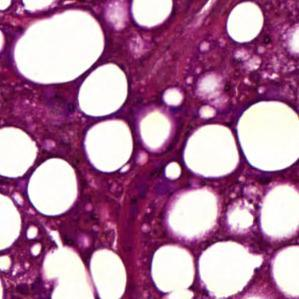steatosis: (240, 98, 299, 170), (26, 159, 84, 214), (181, 122, 240, 176), (81, 116, 136, 173), (75, 63, 130, 118), (146, 244, 201, 292), (224, 1, 266, 43)
